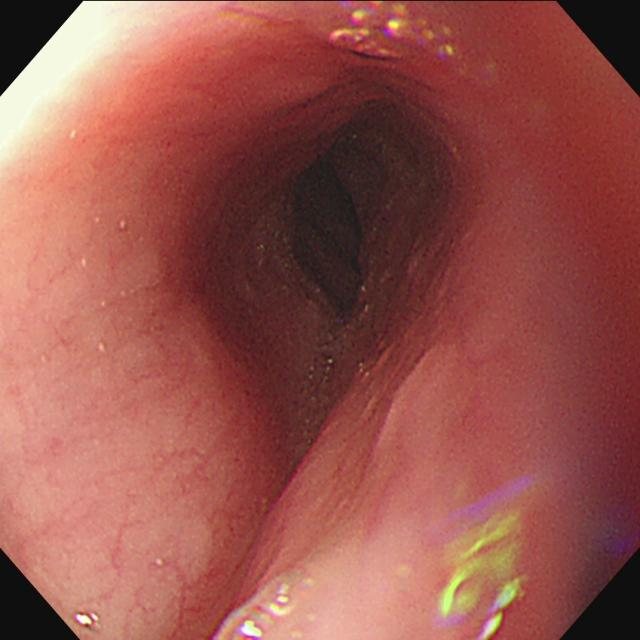E: (293, 163, 363, 312)
U: (440, 512, 526, 640), (330, 2, 455, 61), (75, 613, 100, 632), (240, 620, 263, 640)
